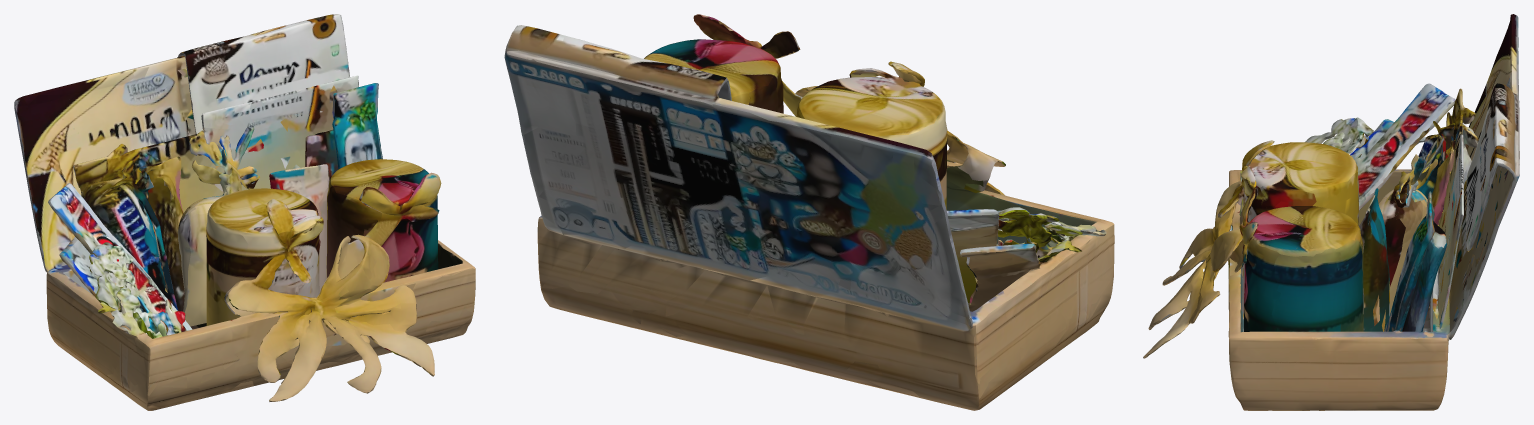
File: hamper 2.glb
3 renders of one model, left to right at view 1: azimuth 30°, elevation 25°; view 2: azimuth 150°, elevation 25°; view 3: azimuth 270°, elevation 25°, orthographic. The views are drawn at different scales.
Parts seen in each view (by area): view 1: textured_mesh; view 2: textured_mesh; view 3: textured_mesh.
Part boxes in pixels (<box>): textured_mesh: <box>14,14,475,410</box>; textured_mesh: <box>504,14,1114,410</box>; textured_mesh: <box>1143,14,1519,410</box>.
Size of the model in its own units: 1.99 by 1.31 by 1.8.
1 material, 1 textured.
